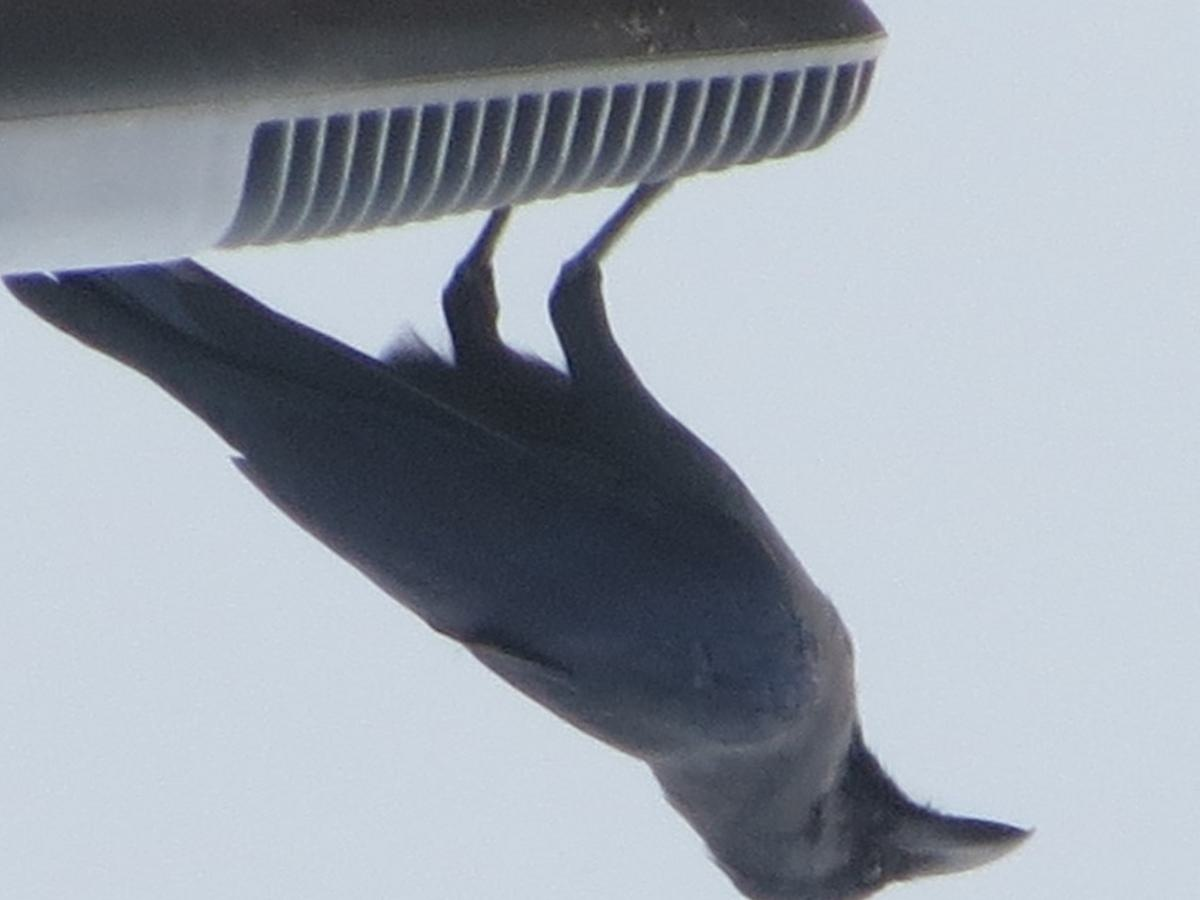crow: (1, 174, 1044, 894)
